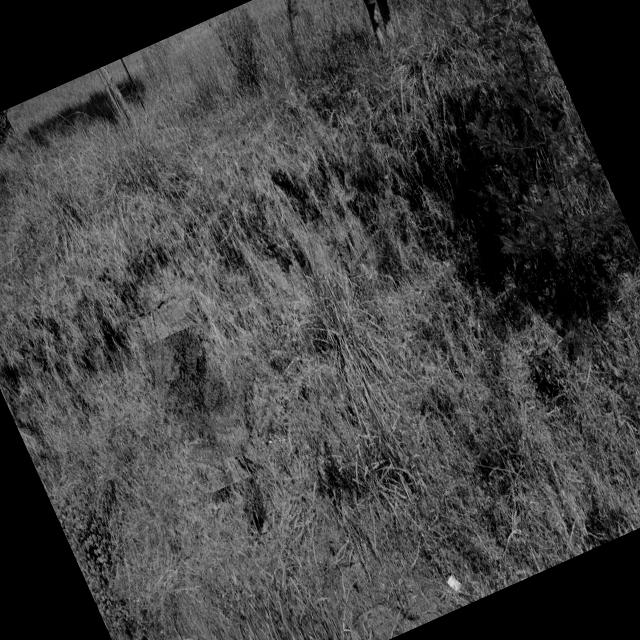Mysore-Thorn-Weed: (137, 322, 265, 497)
